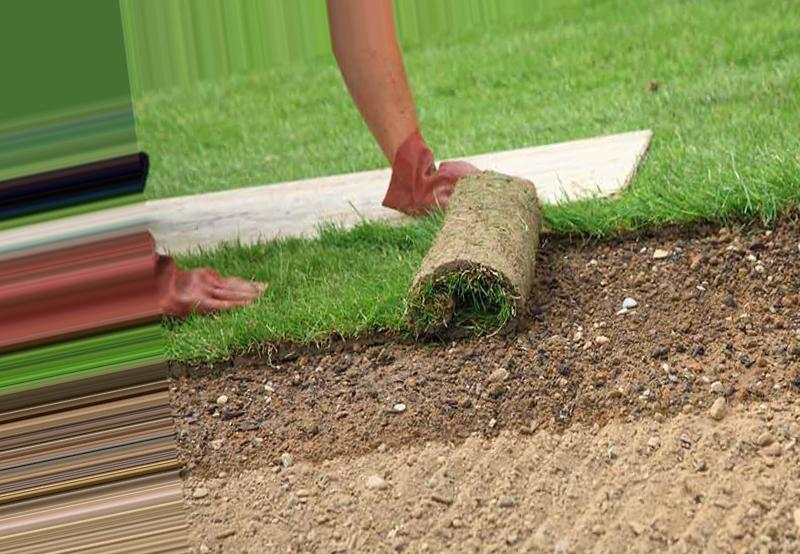patch: (209, 476, 781, 540), (551, 246, 788, 392), (196, 380, 537, 437)
